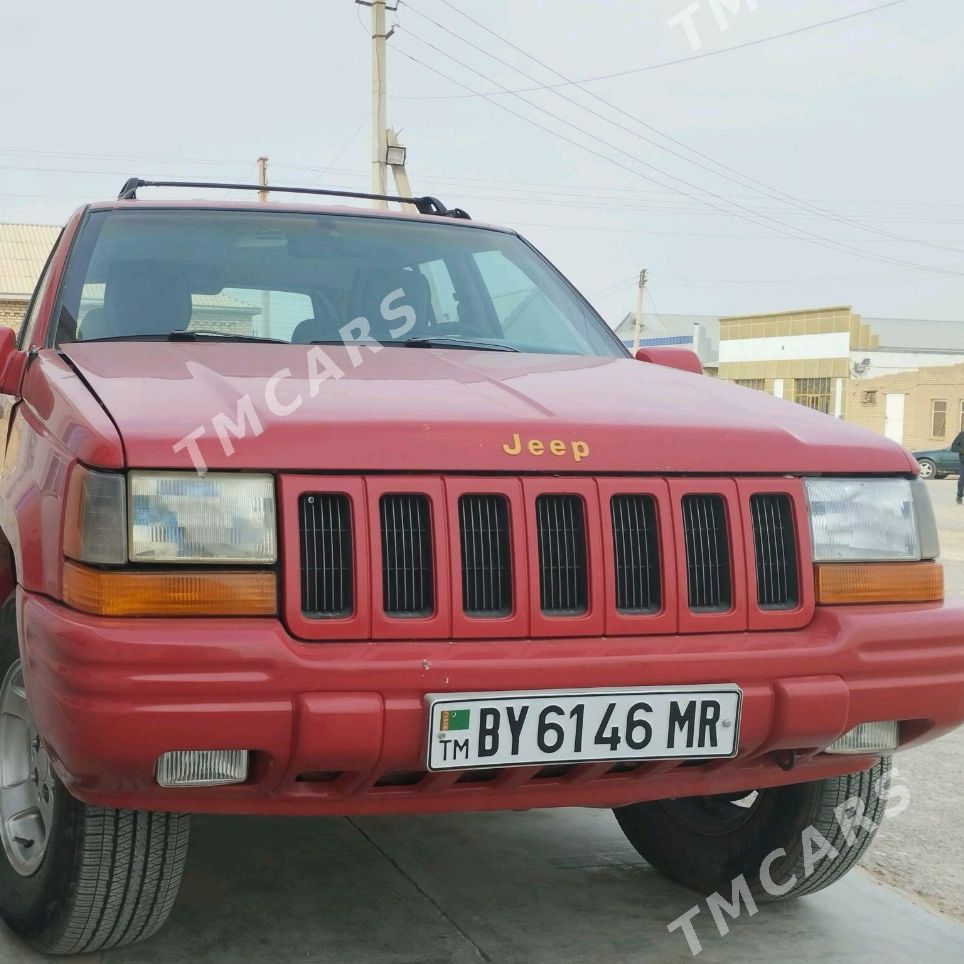license plate: (429, 693, 738, 770)
truck: (2, 198, 963, 936)
